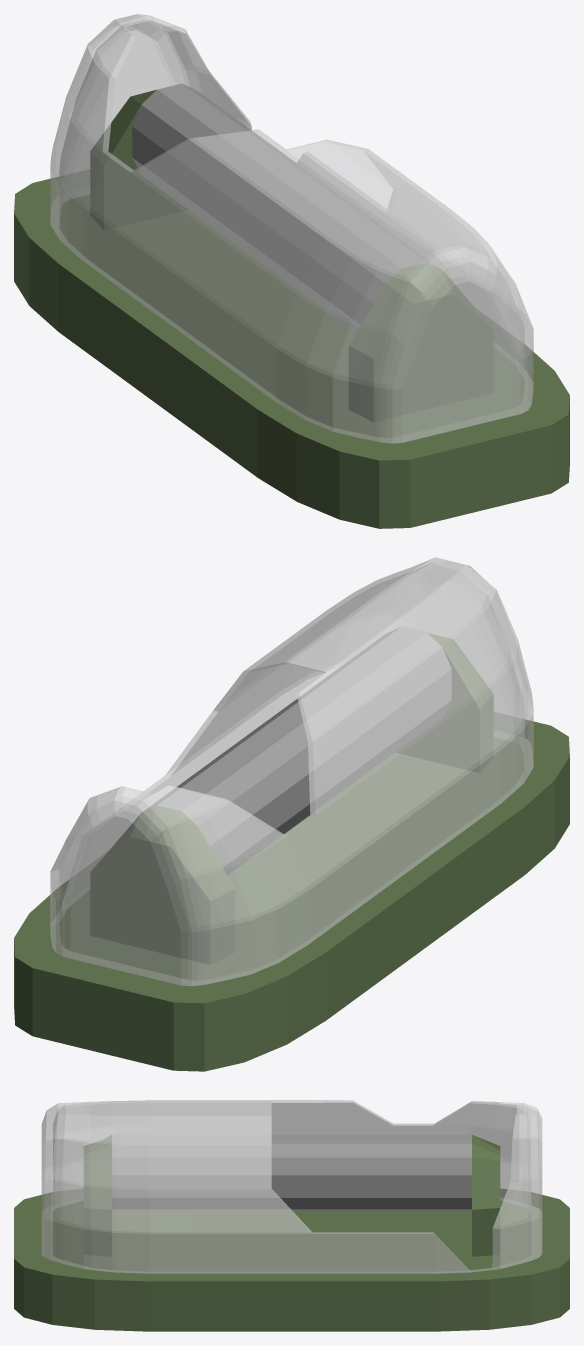
The model's file is SvetilnikSlomaniy.fbx.
3 views of the same model, one above another, from view 1: azimuth 30°, elevation 25°; view 2: azimuth 150°, elevation 25°; view 3: azimuth 270°, elevation 25° (orthographic). The views are drawn at different scales.
Parts seen in each view (by area): view 1: Светильник.001; view 2: Светильник.001; view 3: Светильник.001.
Boxes of the visible parts, <box> form: Светильник.001: <box>14,14,569,528</box>; Светильник.001: <box>14,557,569,1071</box>; Светильник.001: <box>14,1100,569,1331</box>.
Size of the model in its own units: 200 by 170 by 490.
